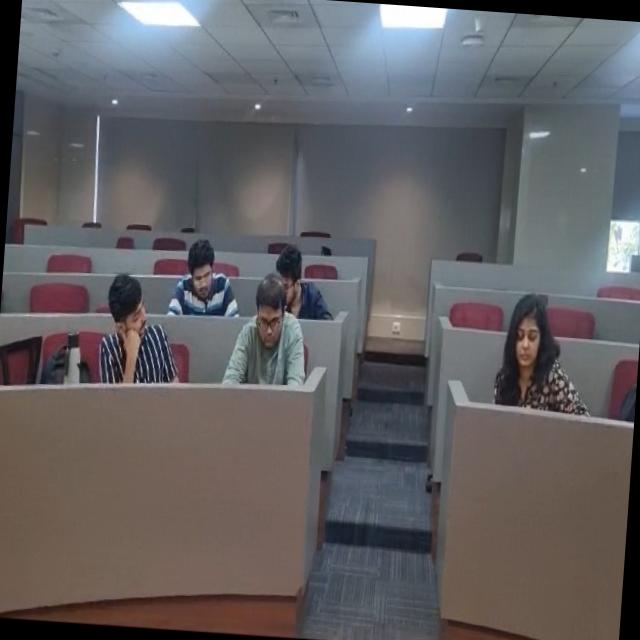cheating: (84, 252, 194, 394), (256, 216, 326, 320), (168, 231, 220, 326)
non-cheating: (491, 288, 576, 412), (226, 276, 312, 396)
